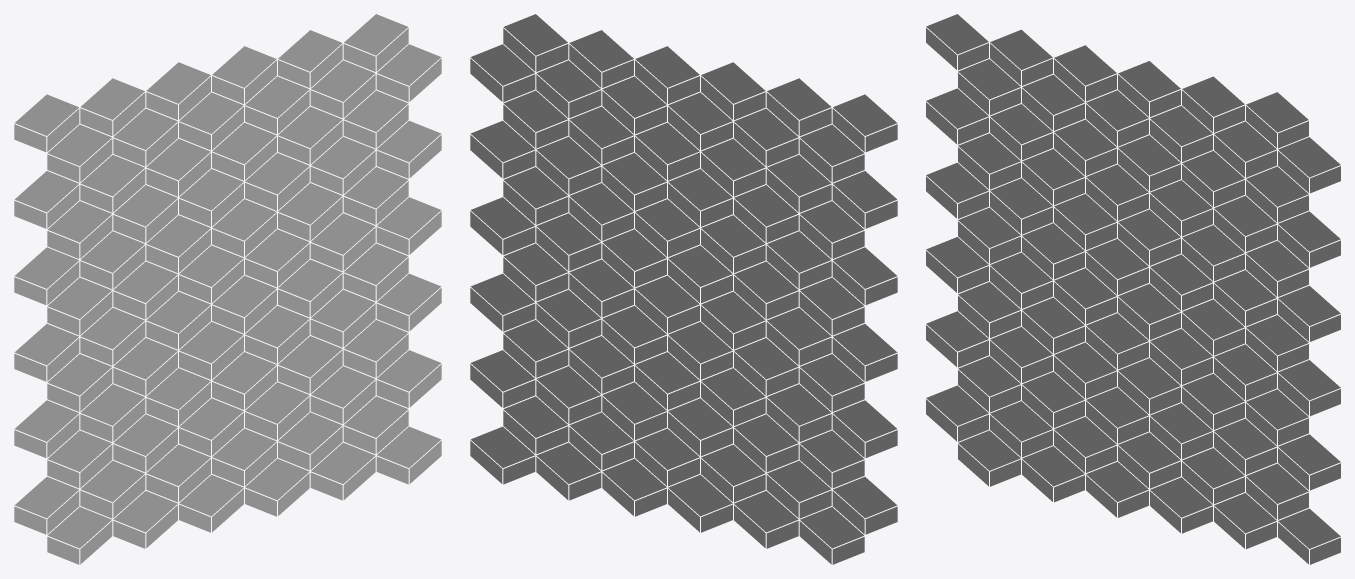
Rendered from rombus.gltf.
3 views of the same model, side by side, from view 1: azimuth 30°, elevation 25°; view 2: azimuth 150°, elevation 25°; view 3: azimuth 330°, elevation 25° (orthographic). The views are drawn at different scales.
Visible parts, largest first — view 1: rombus; view 2: rombus; view 3: rombus.
Boxes of the visible parts, x1=… form: rombus: x1=14, y1=14, x2=441, y2=564; rombus: x1=470, y1=14, x2=897, y2=564; rombus: x1=926, y1=14, x2=1340, y2=564.
Bounding box in the file's own units: 669 × 717 × 0.
216 materials, 216 textured.
